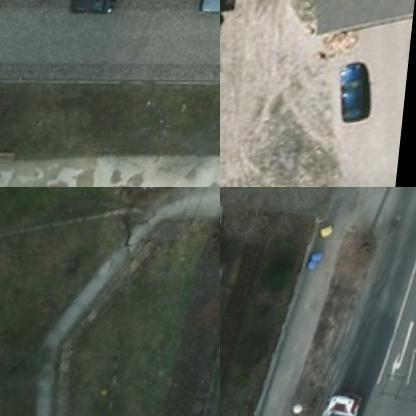car: (342, 69, 380, 136), (69, 0, 125, 30), (196, 0, 219, 32)
